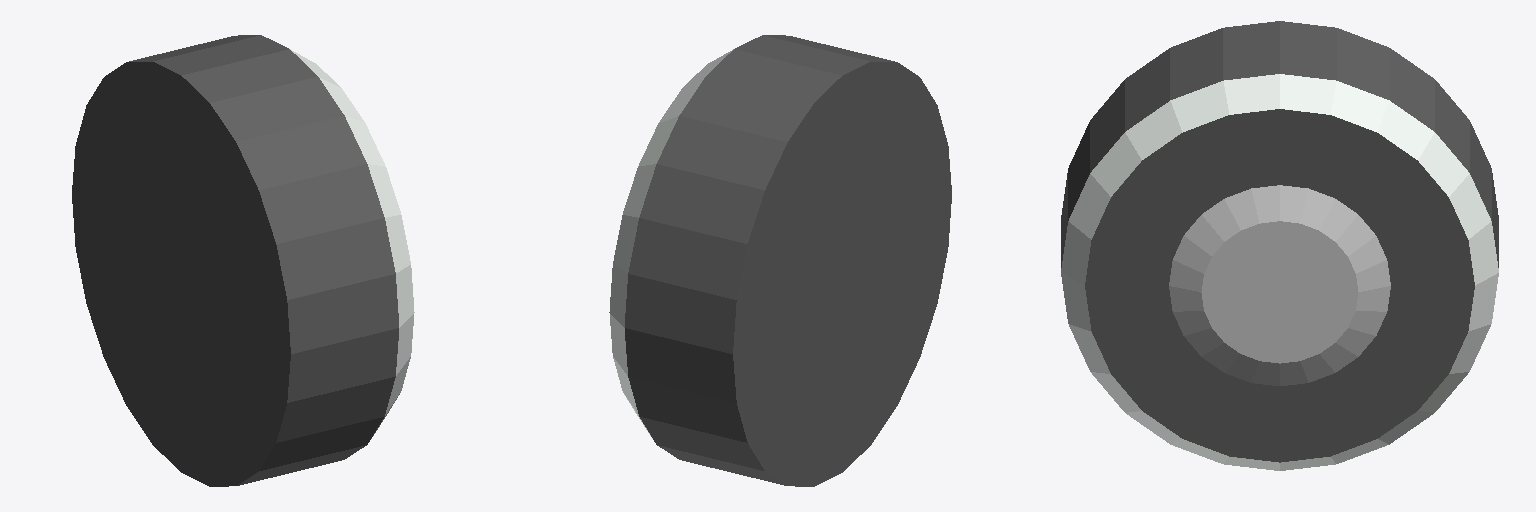
File: wheelVintage.obj
The picture shows the model from 3 angles: view 1: azimuth 30°, elevation 25°; view 2: azimuth 150°, elevation 25°; view 3: azimuth 270°, elevation 25°; orthographic projection.
Visible parts, largest first — view 1: wheelVintage; view 2: wheelVintage; view 3: wheelVintage.
Boxes of the visible parts, <box> form: wheelVintage: <box>72,35,414,486</box>; wheelVintage: <box>609,35,951,486</box>; wheelVintage: <box>1061,21,1498,470</box>.
Bounding box in the file's own units: 1.76 × 4.48 × 4.48.